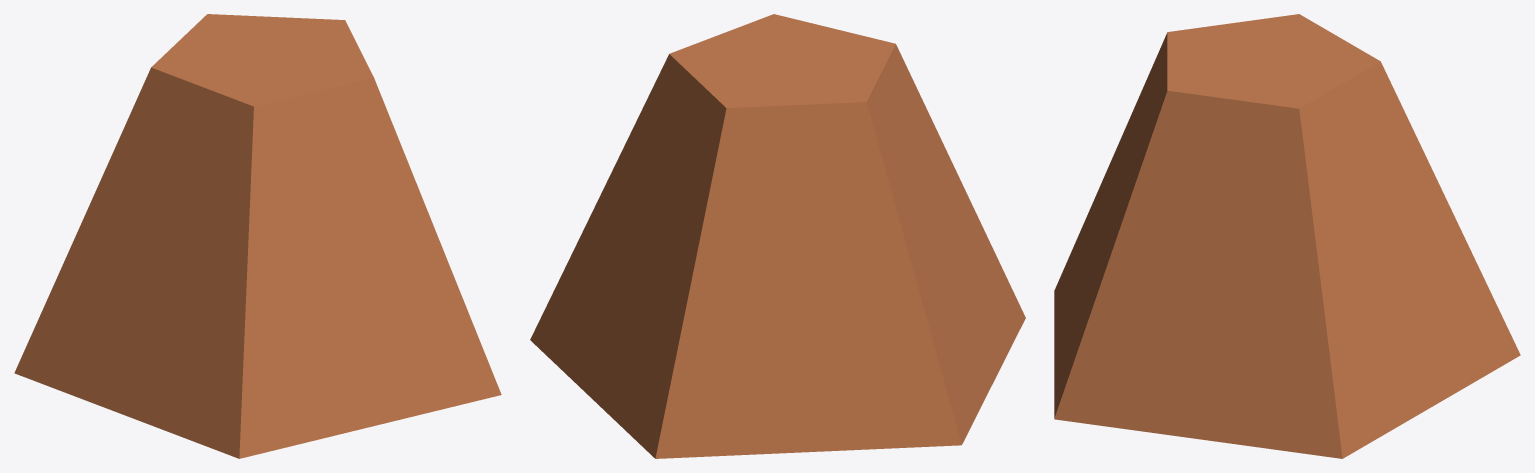
Rendered from prop_flower.glb.
3 renders of one model, left to right at view 1: azimuth 30°, elevation 25°; view 2: azimuth 150°, elevation 25°; view 3: azimuth 270°, elevation 25°, orthographic.
Parts seen in each view (by area): view 1: prop_flower; view 2: prop_flower; view 3: prop_flower.
Boxes of the visible parts, x1,y1,x2,y2 form: prop_flower: (14, 14, 501, 458); prop_flower: (530, 14, 1025, 458); prop_flower: (1054, 14, 1520, 458).
Bounding box in the file's own units: 0.6657 × 0.44 × 0.6332.
1 material, 1 textured.
